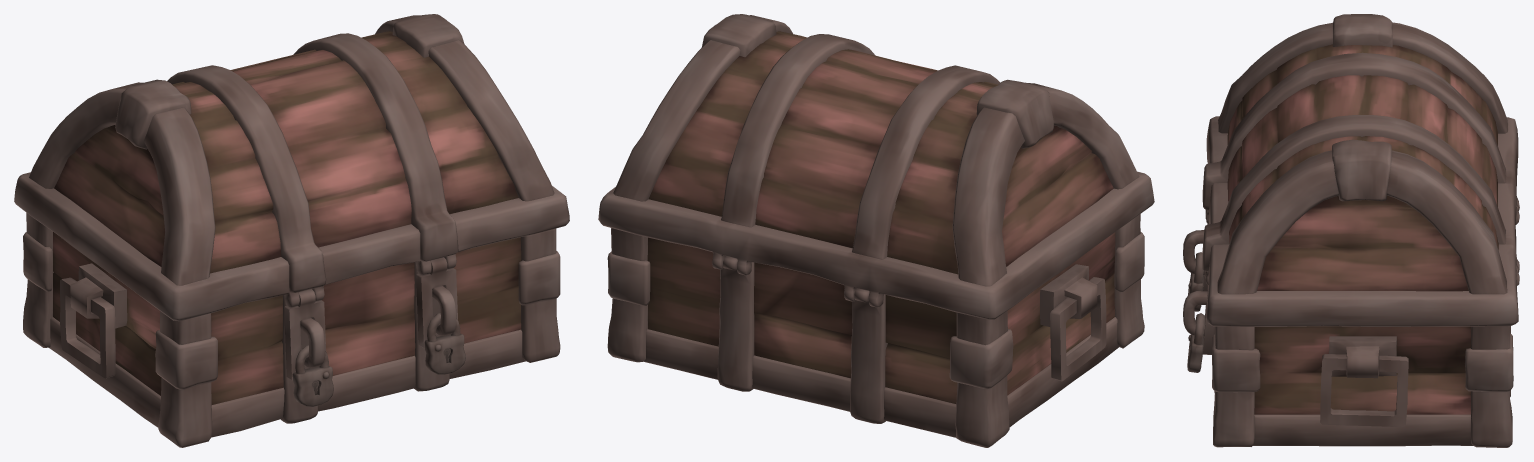
The model's file is stylized_treasure_chest.glb.
3 views of the same model, side by side, from view 1: azimuth 30°, elevation 25°; view 2: azimuth 150°, elevation 25°; view 3: azimuth 270°, elevation 25° (orthographic). The views are drawn at different scales.
Visible parts, largest first — view 1: Cube.063, Cube.062, Cube.067, chest_v04_metal_up.016, chest_v04_metal_up.017, chest_v04_metal_down.019, chest_v04_metal_down.020, Cube.070, chest_v04_metal_down.021, Cube.069, chest_v04_metal_up.018, Cube.066 (+5 smaller); view 2: Cube.063, Cube.067, Cube.062, chest_v04_metal_up.016, chest_v04_metal_down.019, chest_v04_metal_up.017, chest_v04_metal_down.020, Cube.070, chest_v04_metal_down.021, Cube.069, chest_v04_metal_up.018, chest_v04_holder.011 (+1 smaller); view 3: chest_v04_metal_up.016, Cube.063, Cube.067, Cube.070, chest_v04_metal_up.017, Cube.069, chest_v04_metal_down.019, chest_v04_metal_down.020, chest_v04_metal_up.018, chest_v04_metal_down.021, chest_v04_holder.011, chest_v04_holder.010 (+4 smaller).
Part boxes in pixels (box(x1,y1,x2,y2)): Cube.063: box(172, 31, 518, 273); Cube.062: box(211, 237, 521, 404); Cube.067: box(14, 172, 569, 321); chest_v04_metal_up.016: box(29, 15, 554, 285); chest_v04_metal_up.017: box(167, 33, 458, 292); chest_v04_metal_down.019: box(23, 213, 560, 447); chest_v04_metal_down.020: box(49, 317, 525, 437); Cube.070: box(54, 125, 164, 266); chest_v04_metal_down.021: box(23, 232, 560, 389); Cube.069: box(53, 232, 161, 395); chest_v04_metal_up.018: box(115, 14, 464, 149); Cube.066: box(284, 257, 457, 380); Cube.063: box(649, 31, 998, 274); Cube.067: box(598, 171, 1154, 319); Cube.062: box(647, 237, 957, 403); chest_v04_metal_up.016: box(613, 15, 1139, 286); chest_v04_metal_down.019: box(607, 214, 1144, 447); chest_v04_metal_up.017: box(721, 34, 1000, 259); chest_v04_metal_down.020: box(644, 317, 1118, 437); Cube.070: box(1002, 126, 1113, 266); chest_v04_metal_down.021: box(607, 232, 1144, 389); Cube.069: box(1007, 232, 1115, 395); chest_v04_metal_up.018: box(701, 14, 1053, 148); chest_v04_holder.011: box(1050, 277, 1106, 381); chest_v04_metal_up.016: box(1217, 22, 1507, 294); Cube.063: box(1227, 44, 1498, 249); Cube.067: box(1205, 116, 1519, 326); Cube.070: box(1257, 195, 1468, 291); chest_v04_metal_up.017: box(1202, 52, 1505, 271); Cube.069: box(1254, 326, 1470, 414); chest_v04_metal_down.019: box(1213, 204, 1518, 447); chest_v04_metal_down.020: box(1253, 414, 1473, 446); chest_v04_metal_up.018: box(1332, 14, 1392, 201); chest_v04_metal_down.021: box(1212, 333, 1513, 392); chest_v04_holder.011: box(1320, 354, 1408, 427); chest_v04_holder.010: box(1329, 336, 1396, 378).
Bounding box in the file's own units: 381 × 249 × 273.
1 material, 1 textured.
